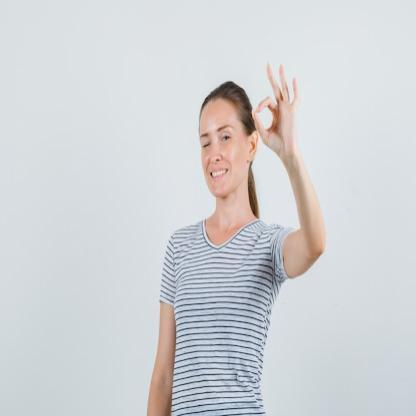ok: (250, 60, 301, 159)
